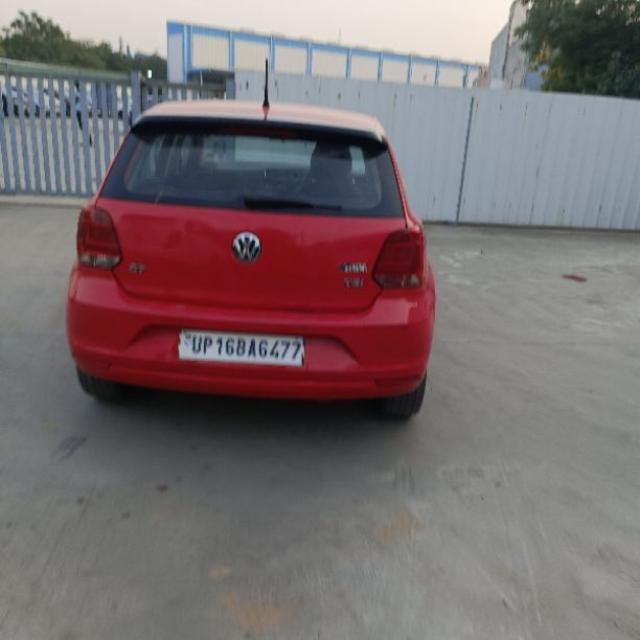license_plate: (176, 326, 305, 367)
